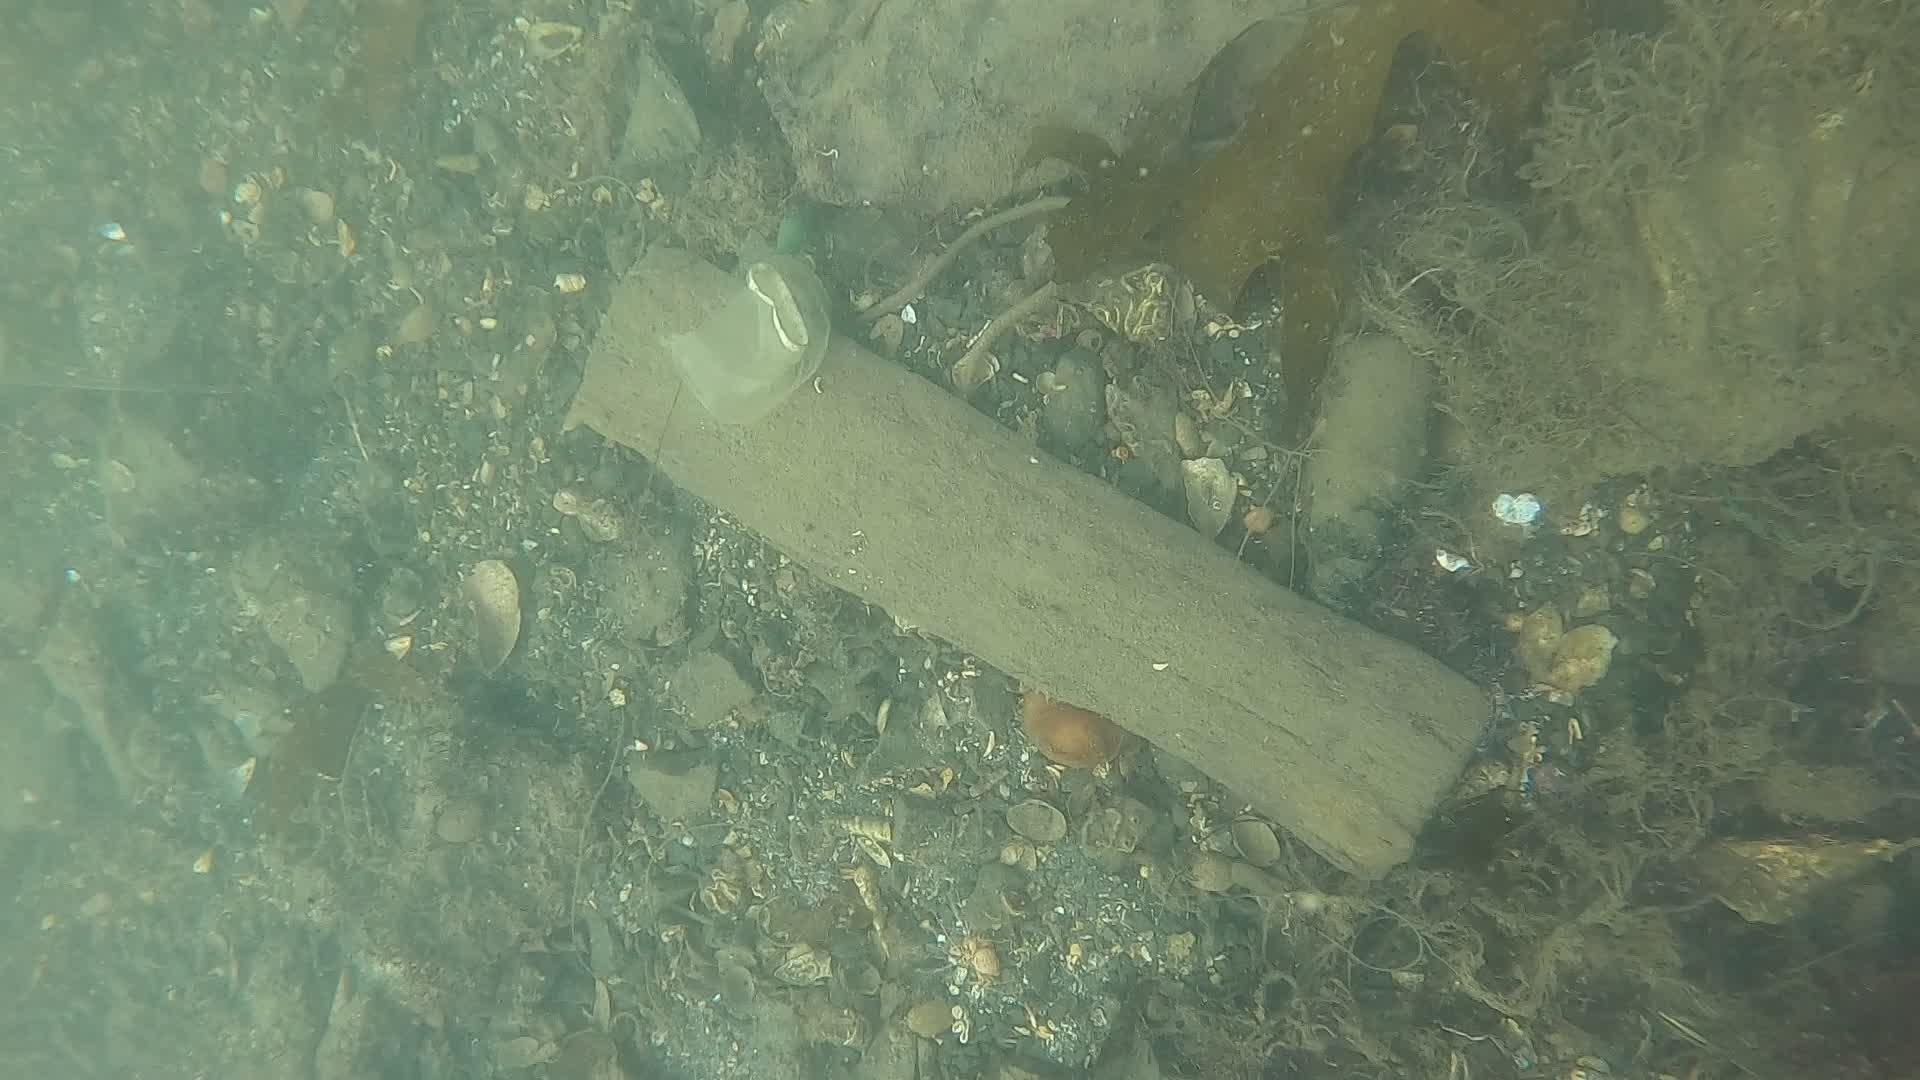wood: (560, 233, 1490, 881)
